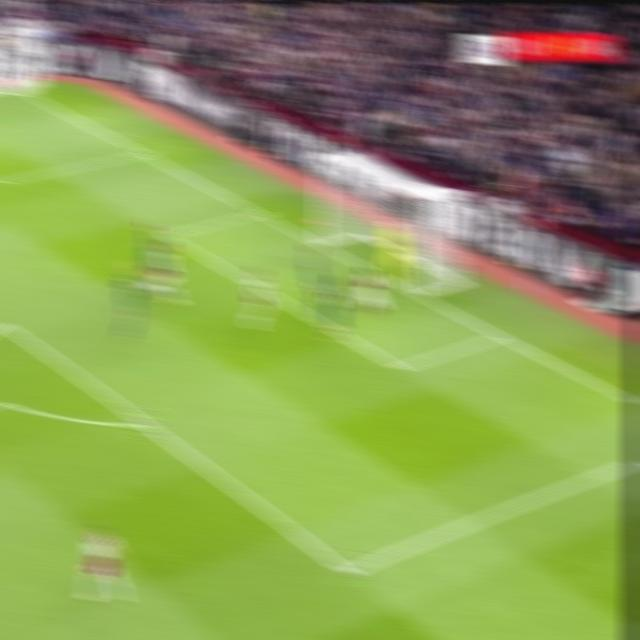bigarea_bottom_inner: (330, 548, 368, 591)
bigarea_top_outter: (131, 143, 155, 162)
bottom_arc_area_intersection: (127, 404, 164, 443)
corner: (9, 86, 34, 97)
smallarea_bottom_inner: (386, 351, 416, 384)
smallarea_bottom_outter: (485, 322, 512, 347)
smallarea_top_inner: (155, 224, 181, 247)
smallarea_top_outter: (247, 202, 272, 223)
